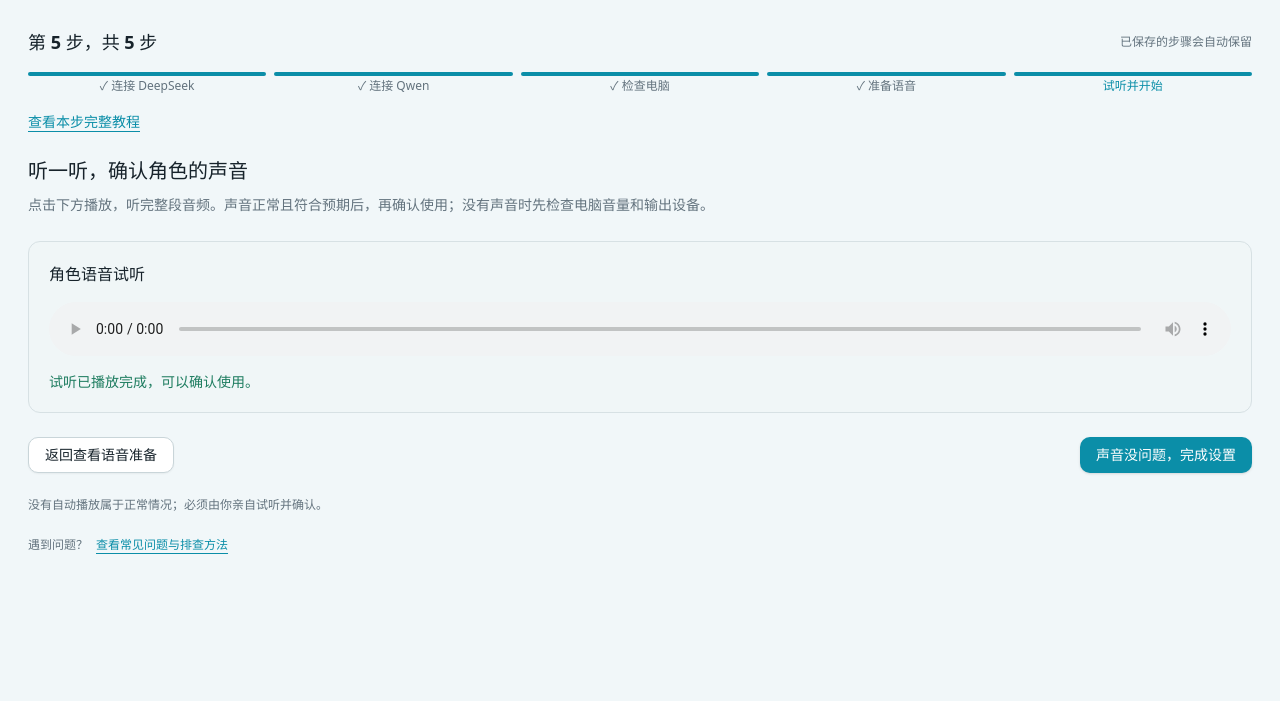
Test case: 首次引导的资格失效恢复 › confirm 拒绝旧试听后刷新真实状态，返回模型步骤并允许重试
Click the button "声音没问题，完成设置": (1166, 455) left=1080, top=437, right=1252, bottom=473
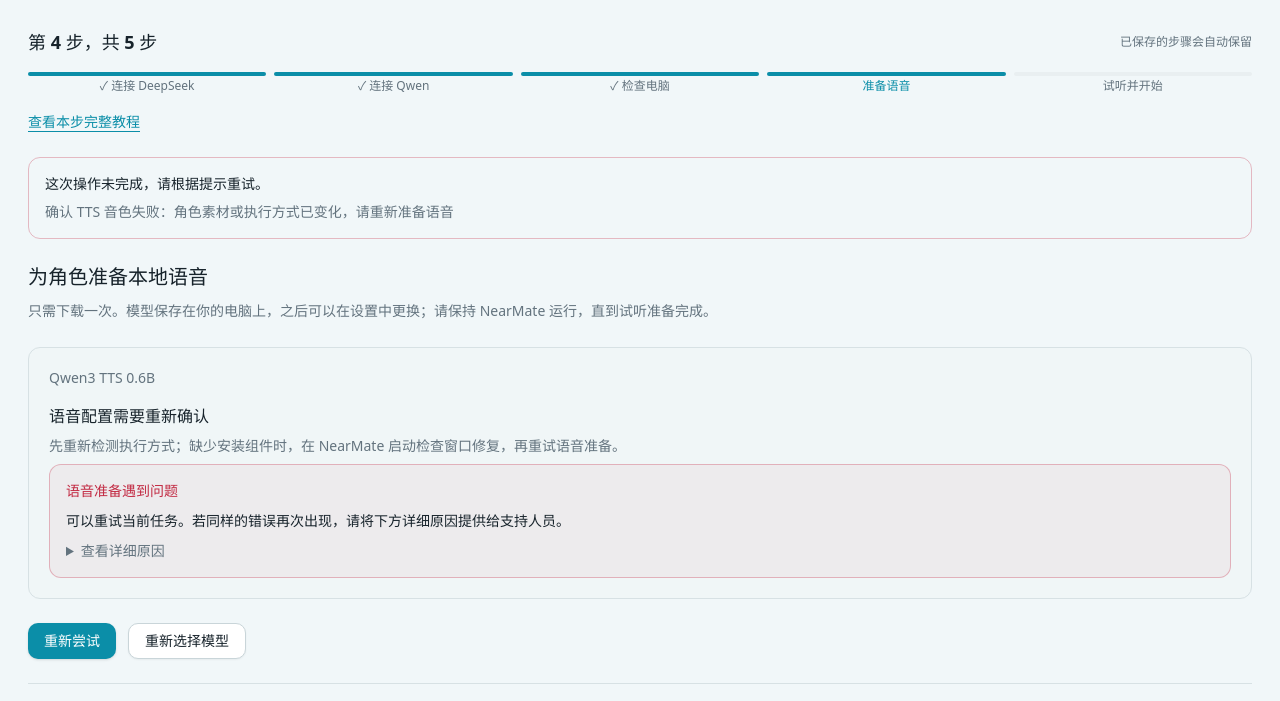
Check: the text "语音配置需要重新确认" is shown, box left=49, top=405, right=209, bottom=427
Check: the button "声音没问题，完成设置" is gone
Check: the button "重新选择模型" is shown, box left=128, top=623, right=246, bottom=659
Click the button "重新尝试": (72, 641) left=28, top=623, right=116, bottom=659
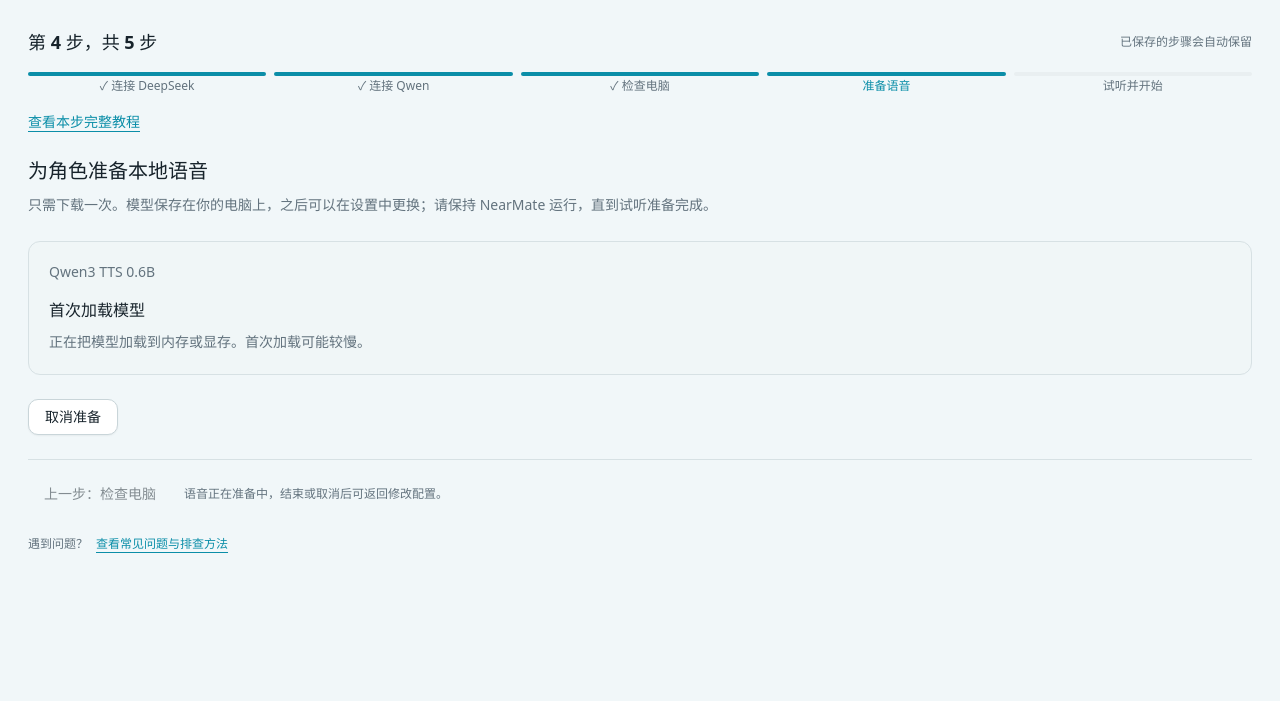
Check: the text "首次加载模型" is shown, box left=49, top=299, right=145, bottom=321
